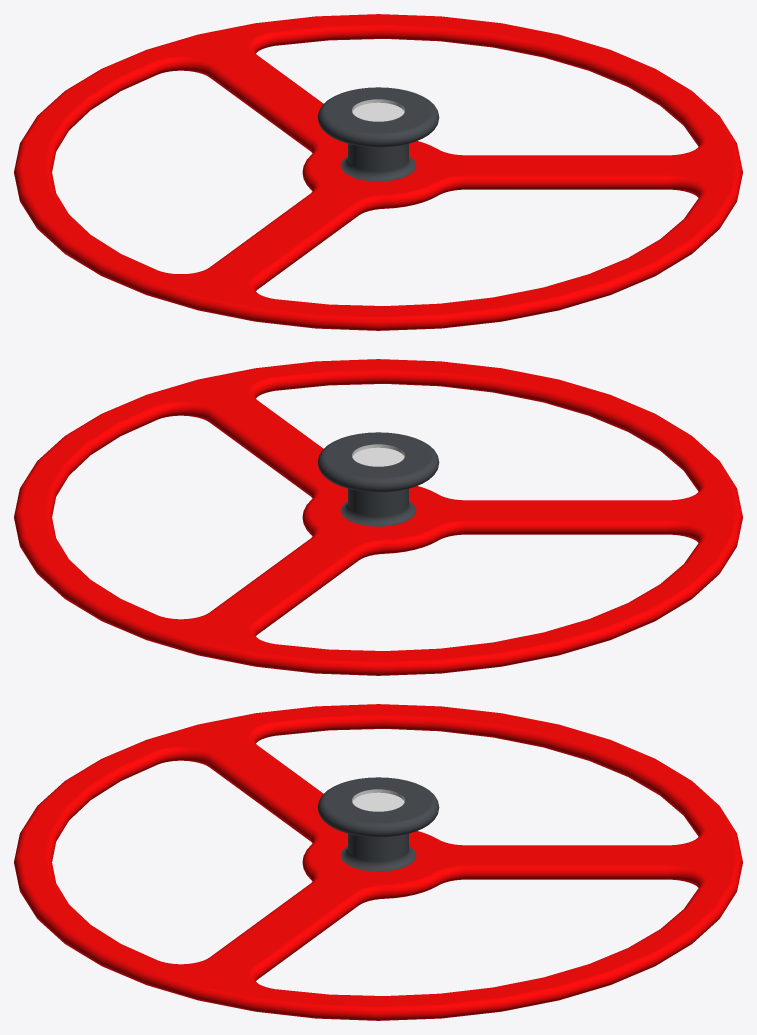
3 renders of one model, top to bottom at view 1: azimuth 30°, elevation 25°; view 2: azimuth 150°, elevation 25°; view 3: azimuth 270°, elevation 25°, orthographic.
Parts seen in each view (by area): view 1: Story Panel; view 2: Story Panel; view 3: Story Panel.
Part boxes in pixels (left/top/right/bottom): Story Panel: left=14, top=14, right=742, bottom=330; Story Panel: left=14, top=359, right=742, bottom=675; Story Panel: left=14, top=704, right=742, bottom=1020.
Size of the model in its own units: 0.6096 by 0.0635 by 0.6096.
